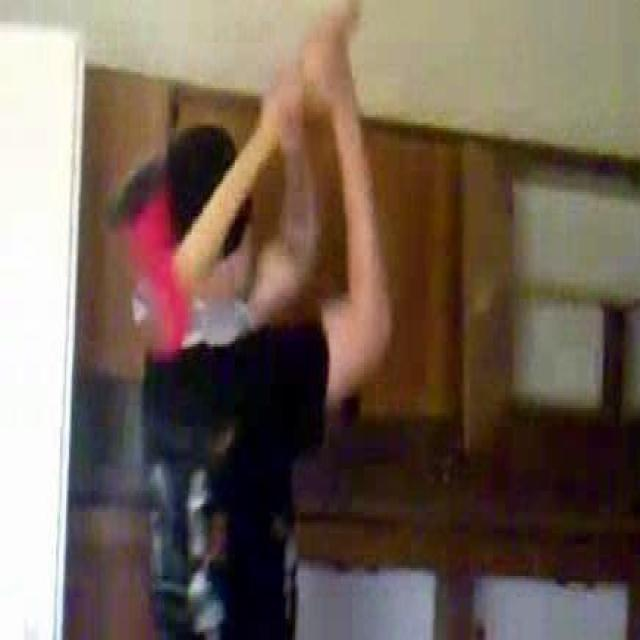fight: (90, 18, 436, 640)
